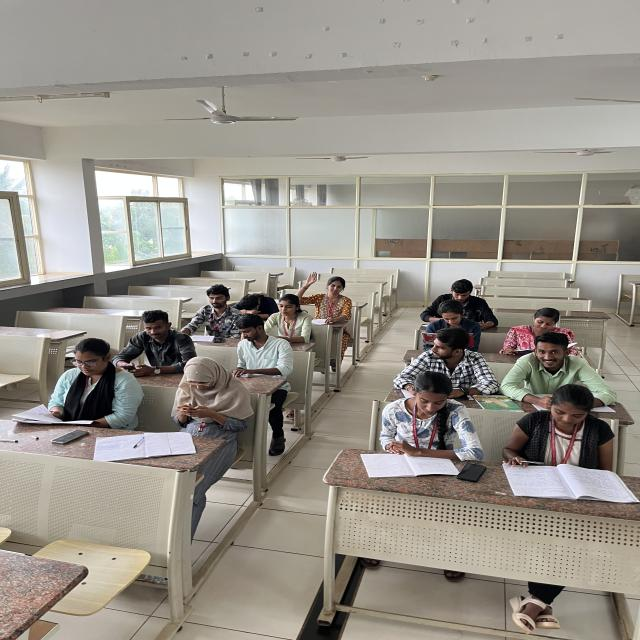Hand Rising: (298, 272, 354, 324)
Reading: (508, 382, 622, 488), (15, 330, 132, 424), (379, 370, 475, 469), (497, 306, 580, 358), (231, 314, 291, 383), (415, 299, 489, 349)
Sleeping: (231, 288, 278, 318)
Using Phone: (168, 353, 250, 430), (110, 308, 191, 378)
